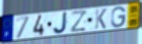4: (32, 14, 46, 37)
7: (16, 16, 30, 40)
G: (110, 6, 127, 29)
J: (52, 11, 69, 35)
K: (94, 8, 108, 30)
Z: (69, 9, 88, 34)
